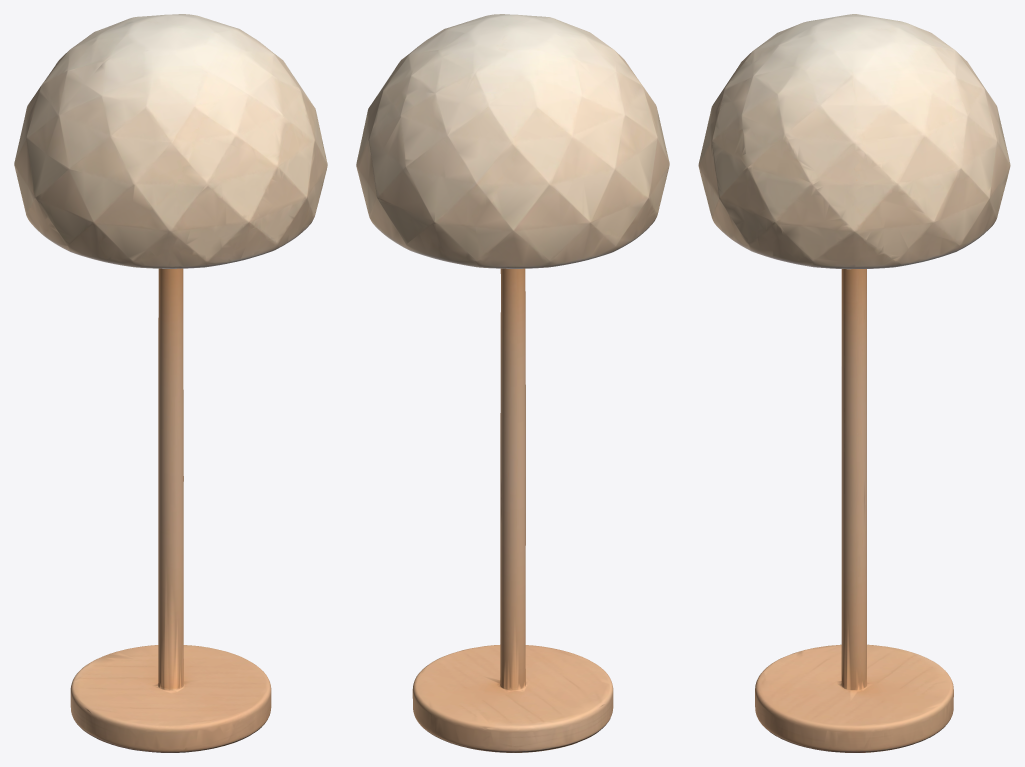
Rendered from floorlamp.glb.
3 views of the same model, side by side, from view 1: azimuth 30°, elevation 25°; view 2: azimuth 150°, elevation 25°; view 3: azimuth 270°, elevation 25° (orthographic).
Parts seen in each view (by area): view 1: node_0; view 2: node_0; view 3: node_0.
Boxes of the visible parts, x1,y1,x2,y2 form: node_0: [14, 14, 327, 752]; node_0: [356, 14, 669, 752]; node_0: [698, 14, 1010, 752].
Bounding box in the file's own units: 0.4822 × 1.16 × 0.4811.
Materials: 1 (1 with a texture image).
